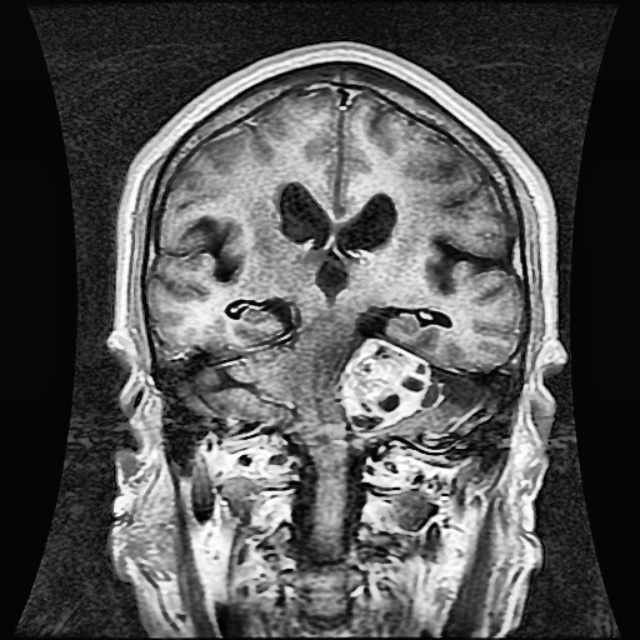Glioma: (339, 337, 430, 432)
